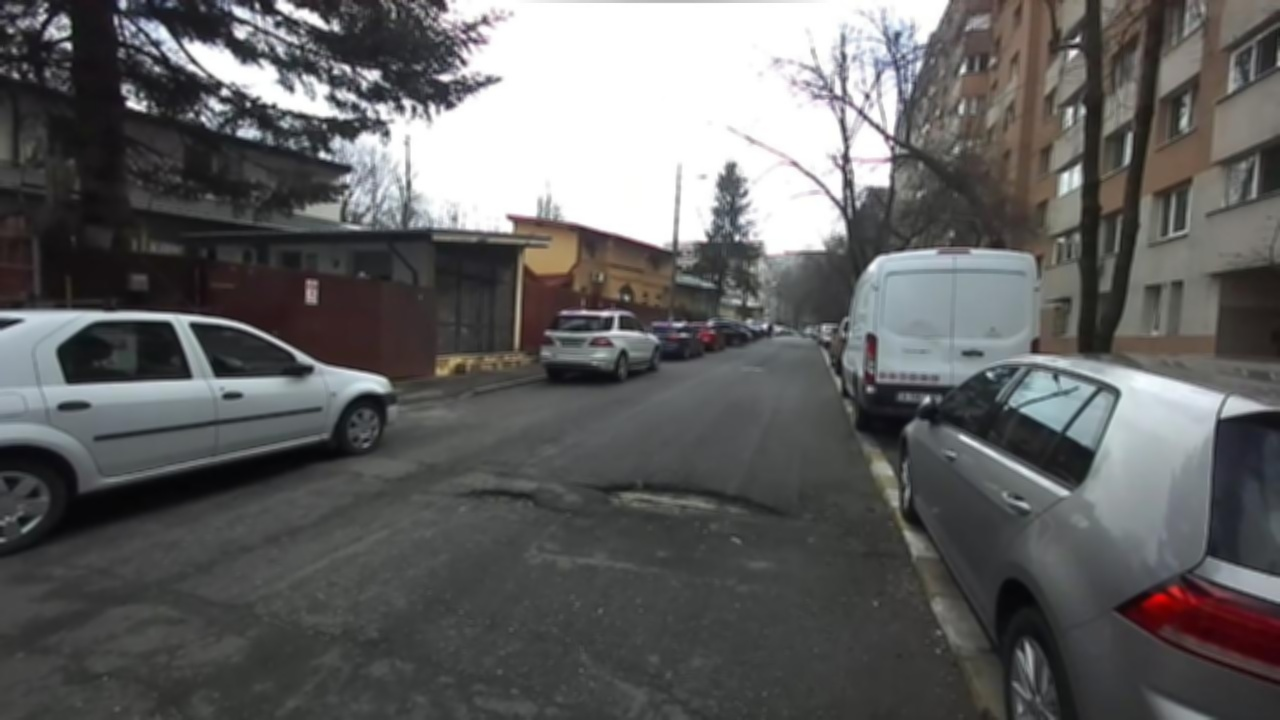pothole: (575, 477, 788, 526), (452, 483, 572, 516)
